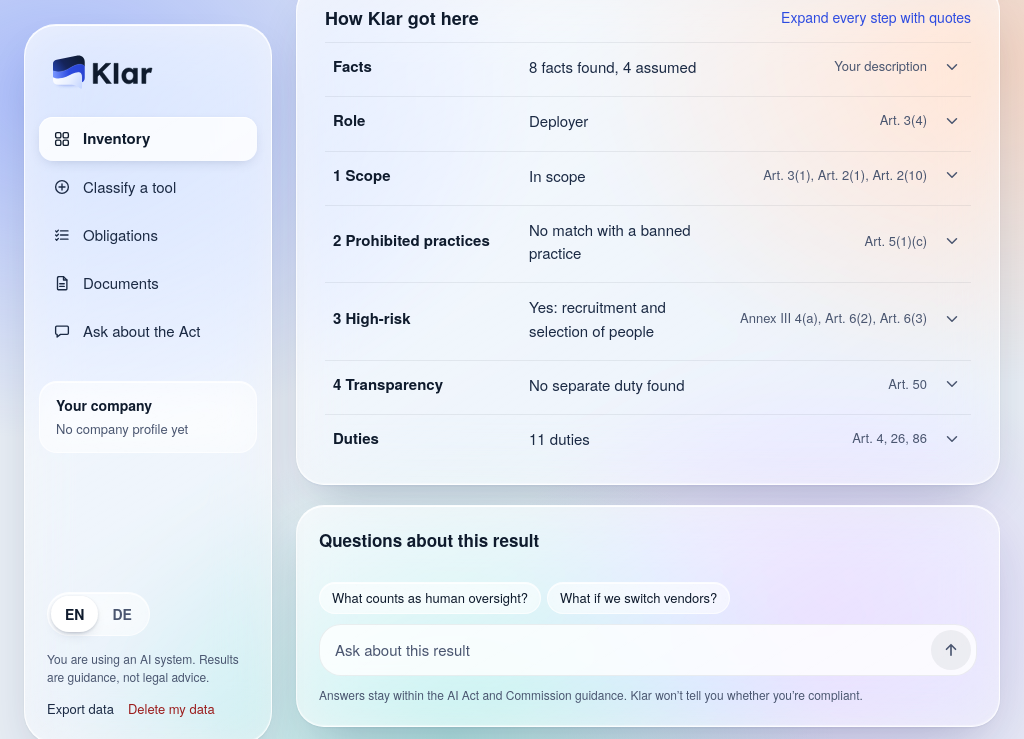
Test: Result summary › opens a step that decided nothing with its provisions named, not quoted
(page scrolled)
Click the button "4 Transparency No separate duty found Art. 50".
click(648, 384)  # box [325,361,971,408]
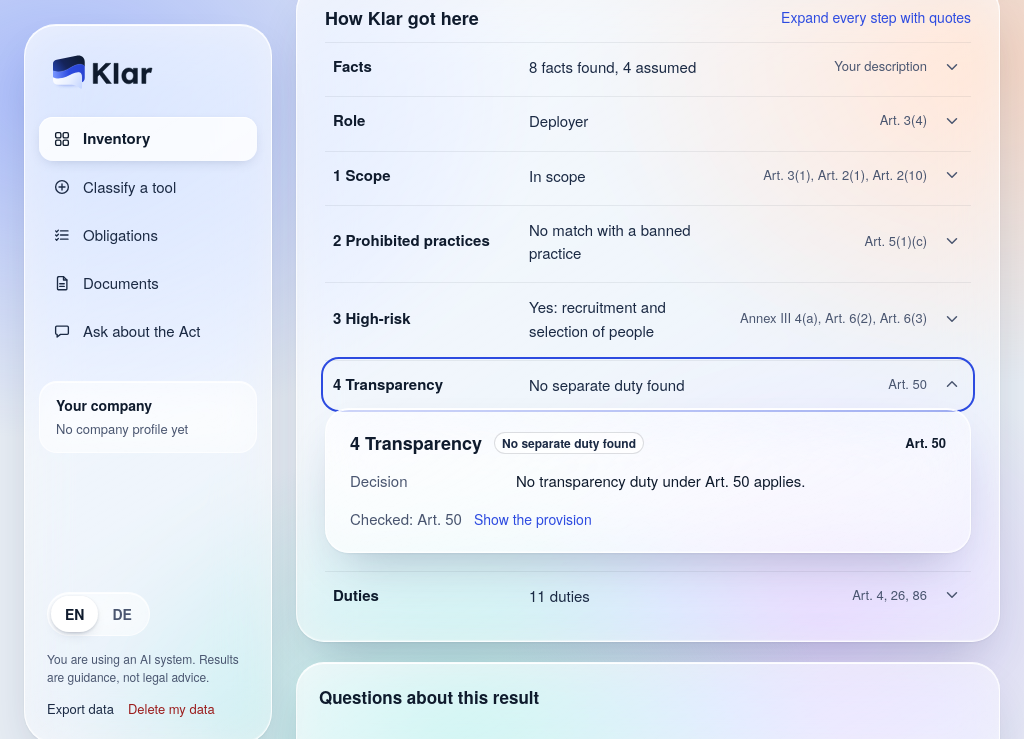
Expected: the text "Checked: Art. 50" is shown, [350,506,462,530]
Expected: the button "Show the provision" is shown, [474,510,592,529]
